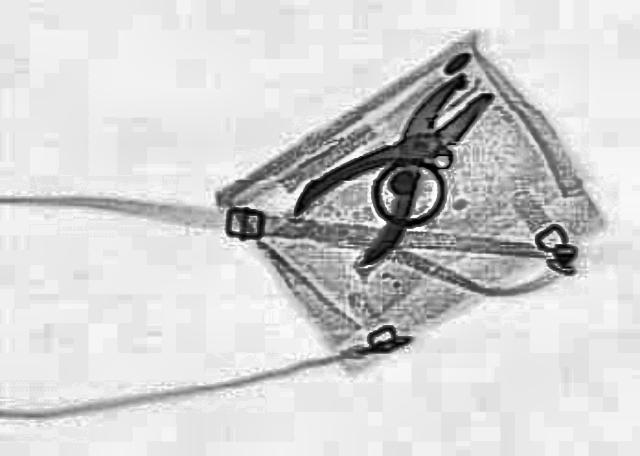Pliers: (266, 59, 532, 268)
